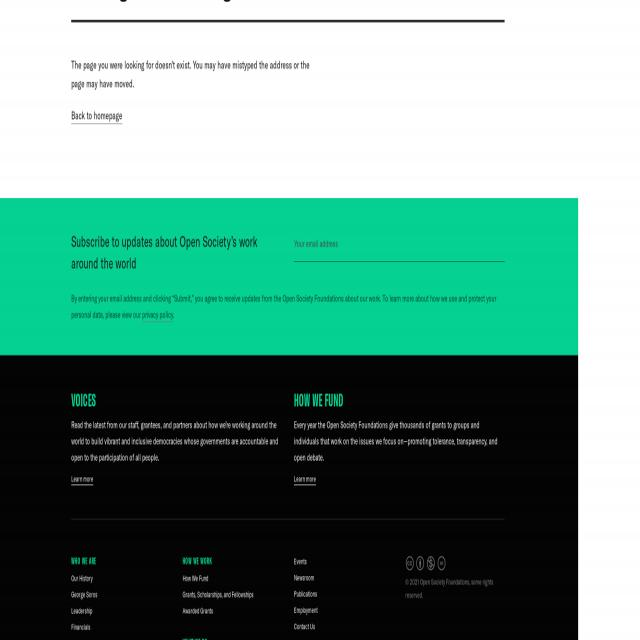button: (418, 556, 428, 572), (408, 556, 417, 572), (429, 556, 438, 572), (439, 556, 448, 572)
field: (296, 235, 507, 262)
